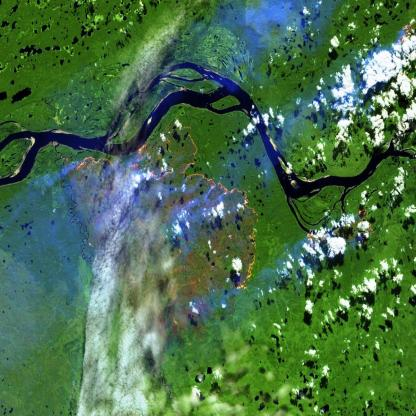fire: (74, 122, 264, 296), (297, 201, 374, 253), (396, 19, 416, 50)
